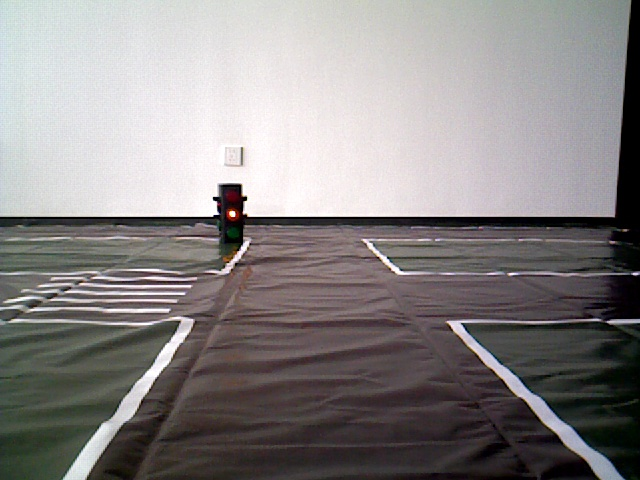yellow: (217, 181, 246, 242)
